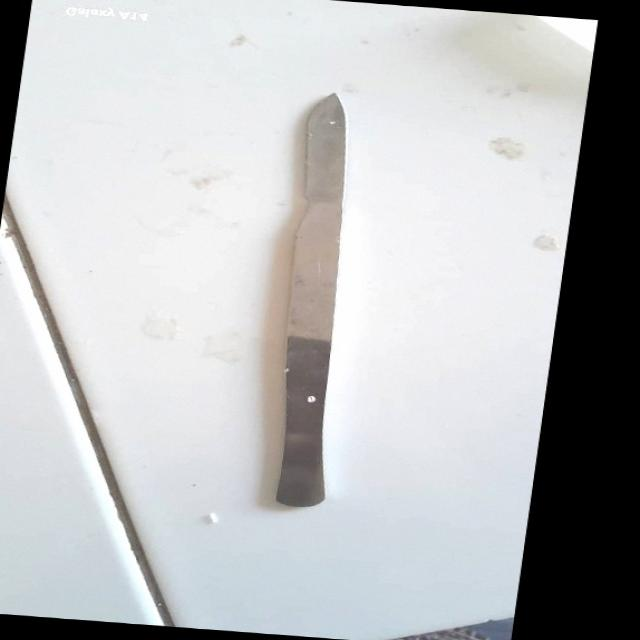Knife: (242, 90, 388, 518)
